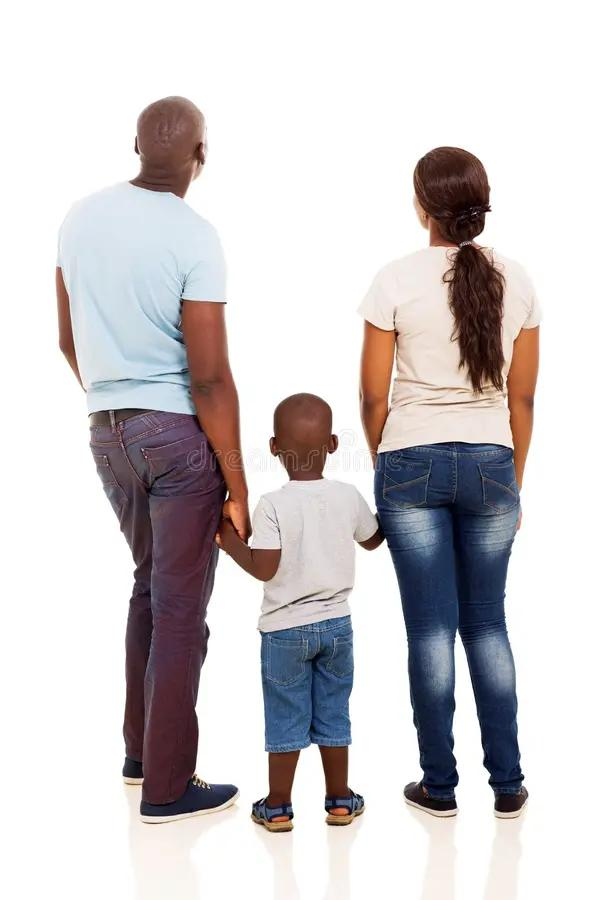Shorts: (252, 614, 357, 752)
short sleeve shirt: (51, 179, 228, 415), (354, 240, 541, 455), (252, 474, 376, 631)
trousers: (81, 405, 224, 803), (372, 438, 525, 790)
